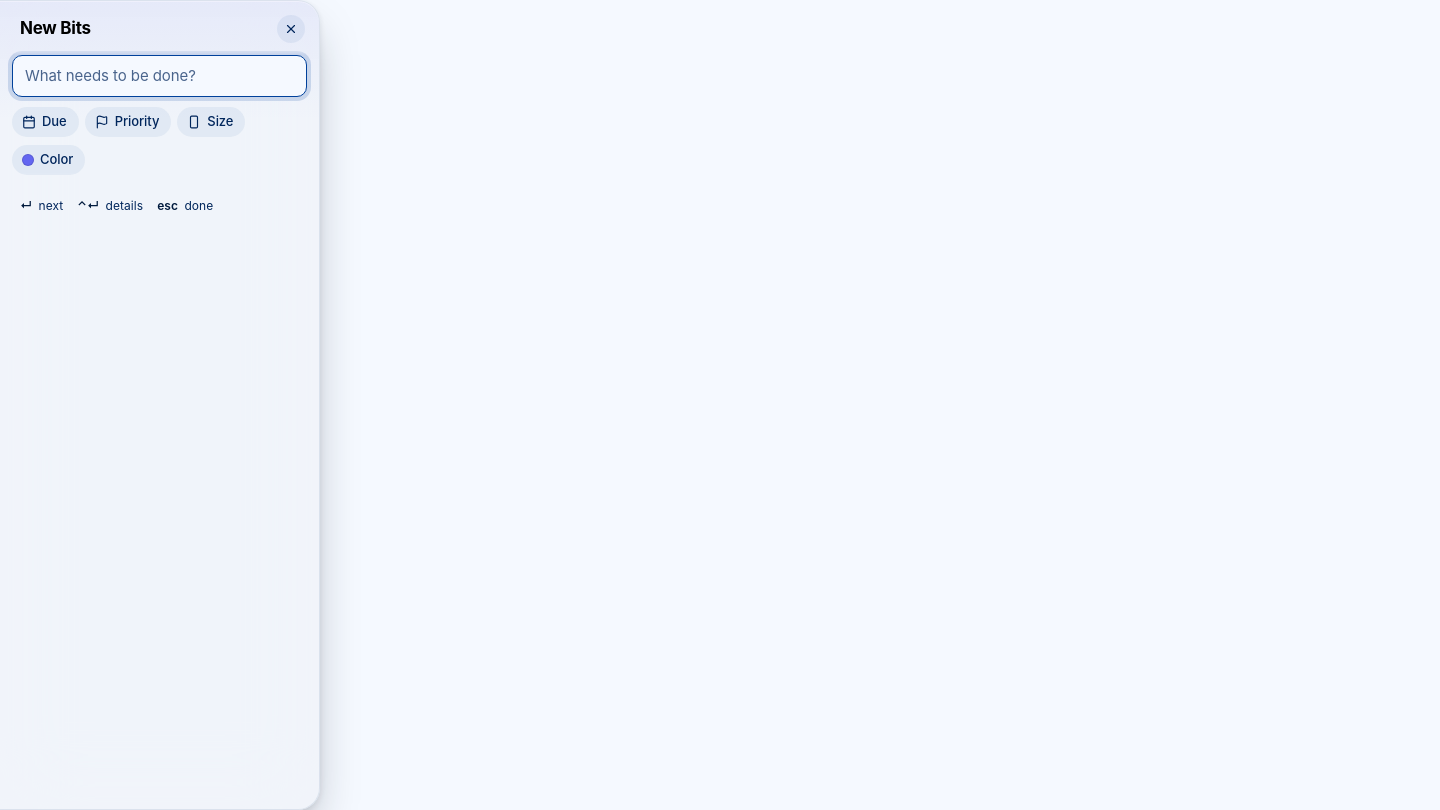
LBitSheet › legt per Enter am Klickpunkt mit flowId an und leert die Eingabe
This screenshot has width=1440, height=810.
In the field with placeholder "What needs to be done?": (160, 76) [13, 56, 306, 96], type "  Steuer  "
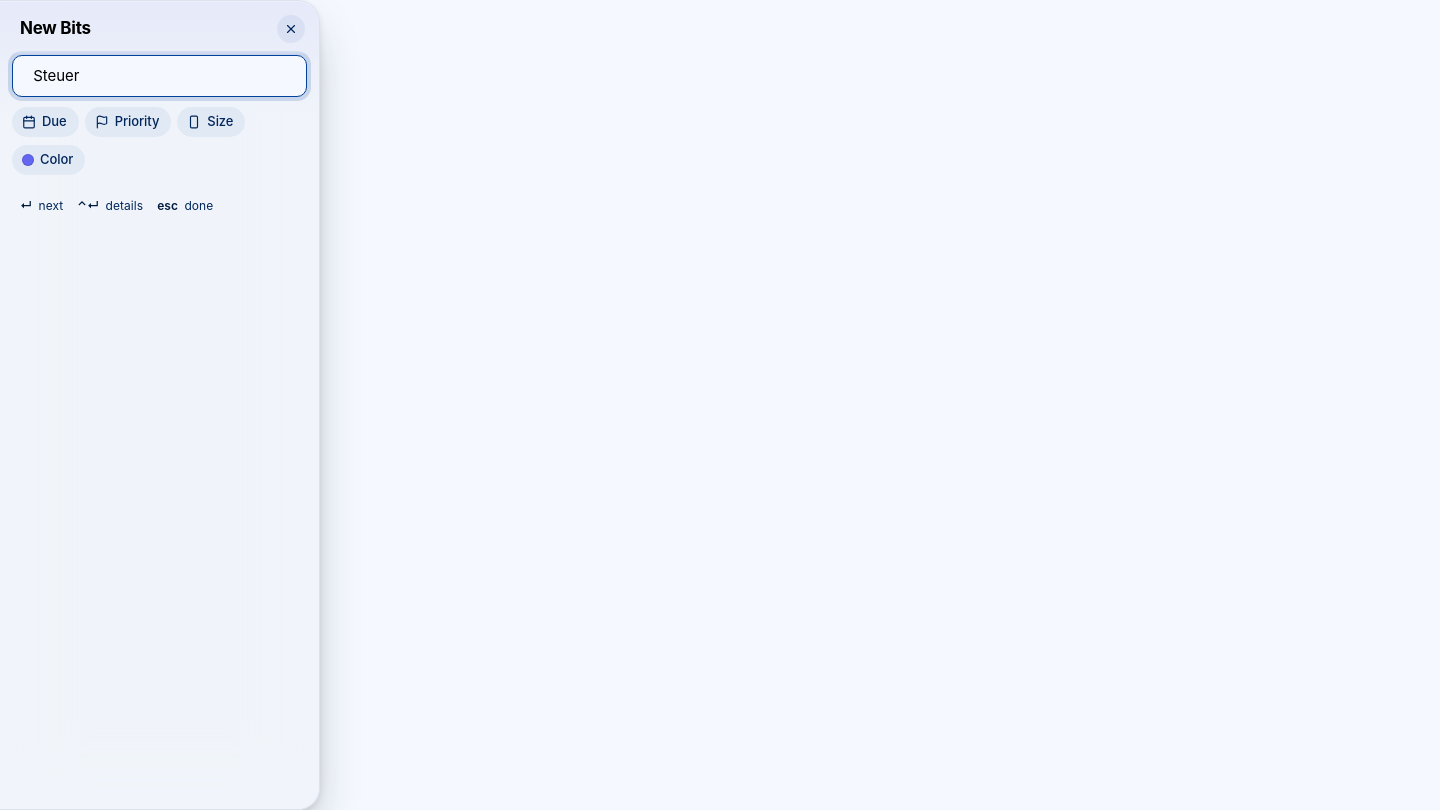
Press Enter in the field named "New bit title", box [13, 56, 306, 96]
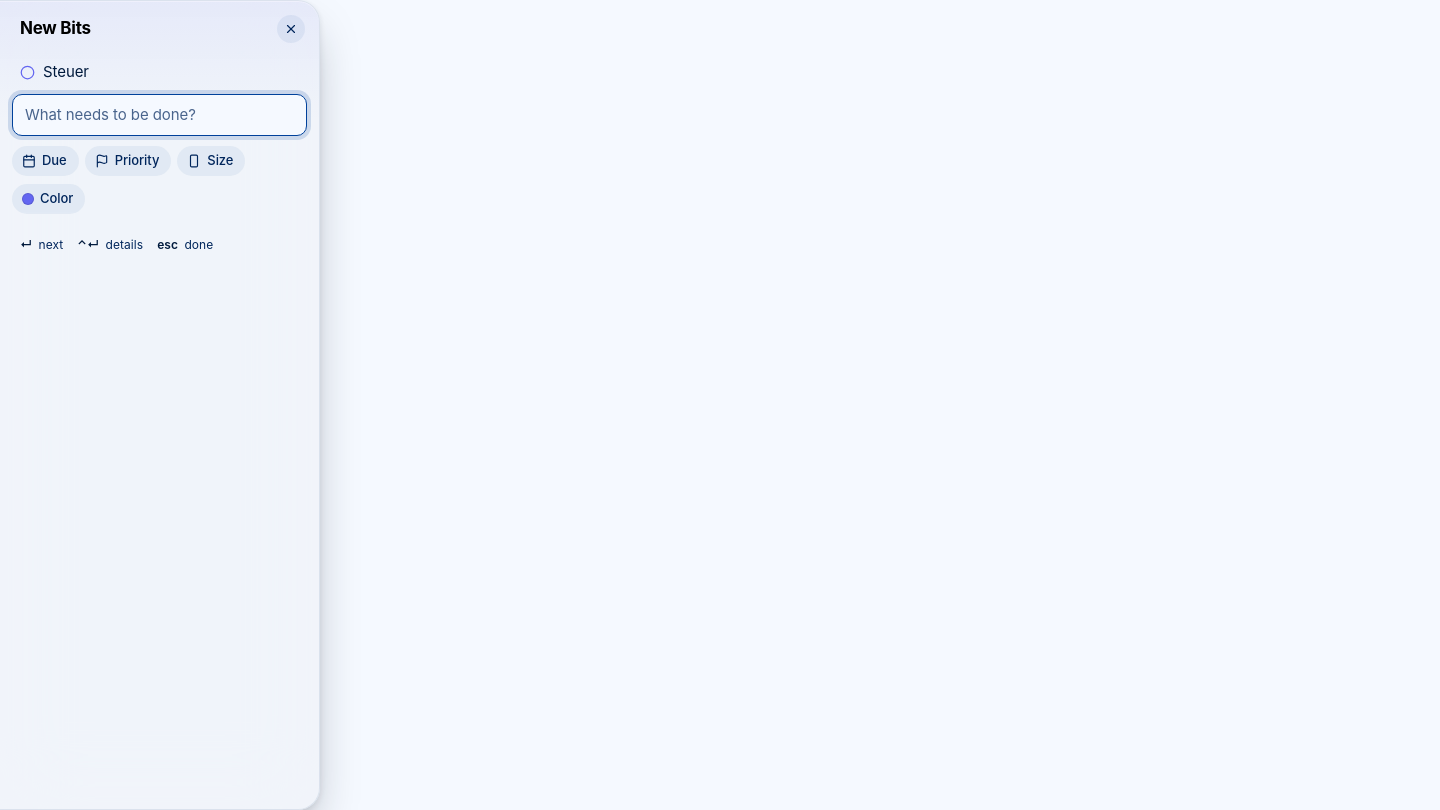
Check: the button with class "capture__row" reads "Steuer", box [12, 55, 307, 90]
Check: the field with placeholder "What needs to be done?" is empty, box [13, 94, 306, 134]
